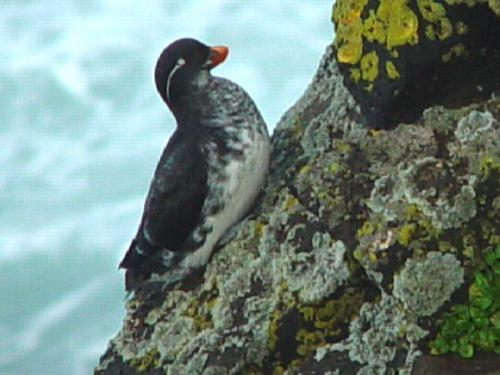007.Parakeet_Auklet: (118, 36, 272, 297)
